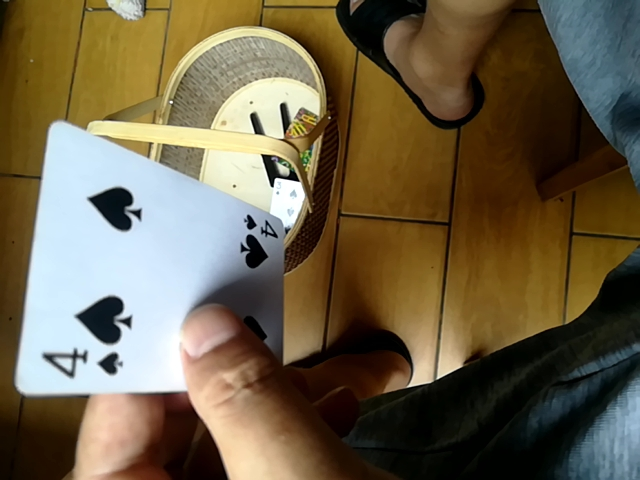ht 4: (15, 109, 300, 406)
